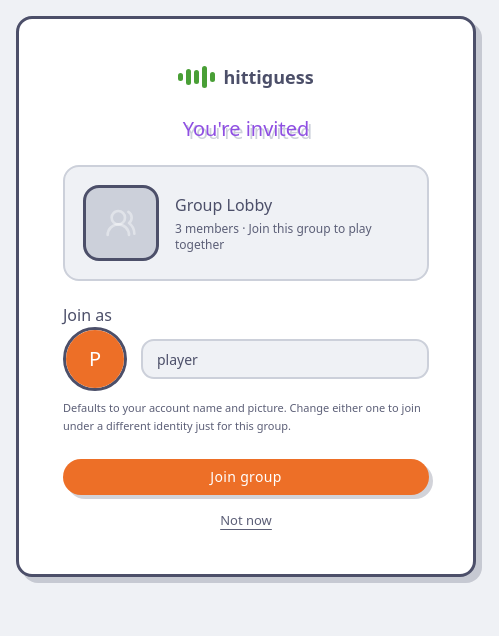
Test: JoinGroupPage › shows the server's reason when the chosen identity is refused
Click the button "Join group" at [246, 477], box [63,459,429,495]
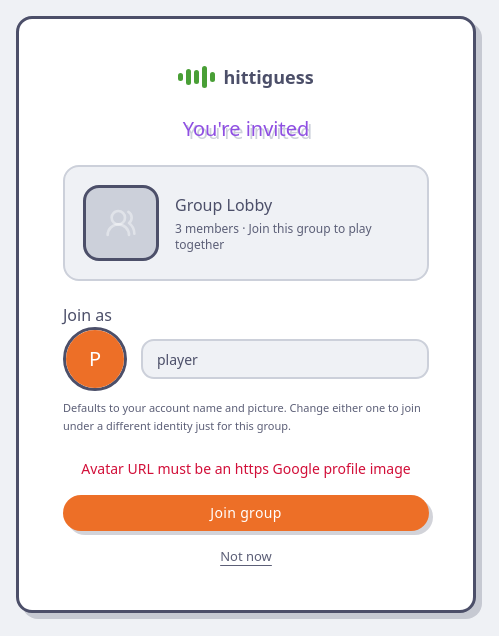
Check: the text "Avatar URL must be an https Google profile image" is shown, box [81,459,411,479]
